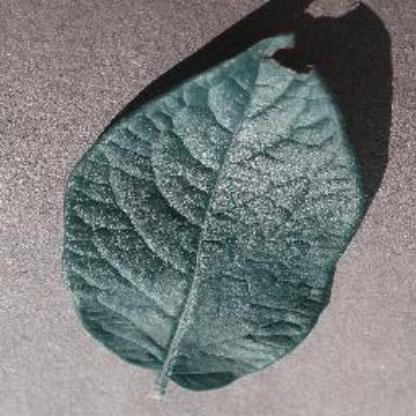Healthy-plant: (53, 28, 368, 395)
